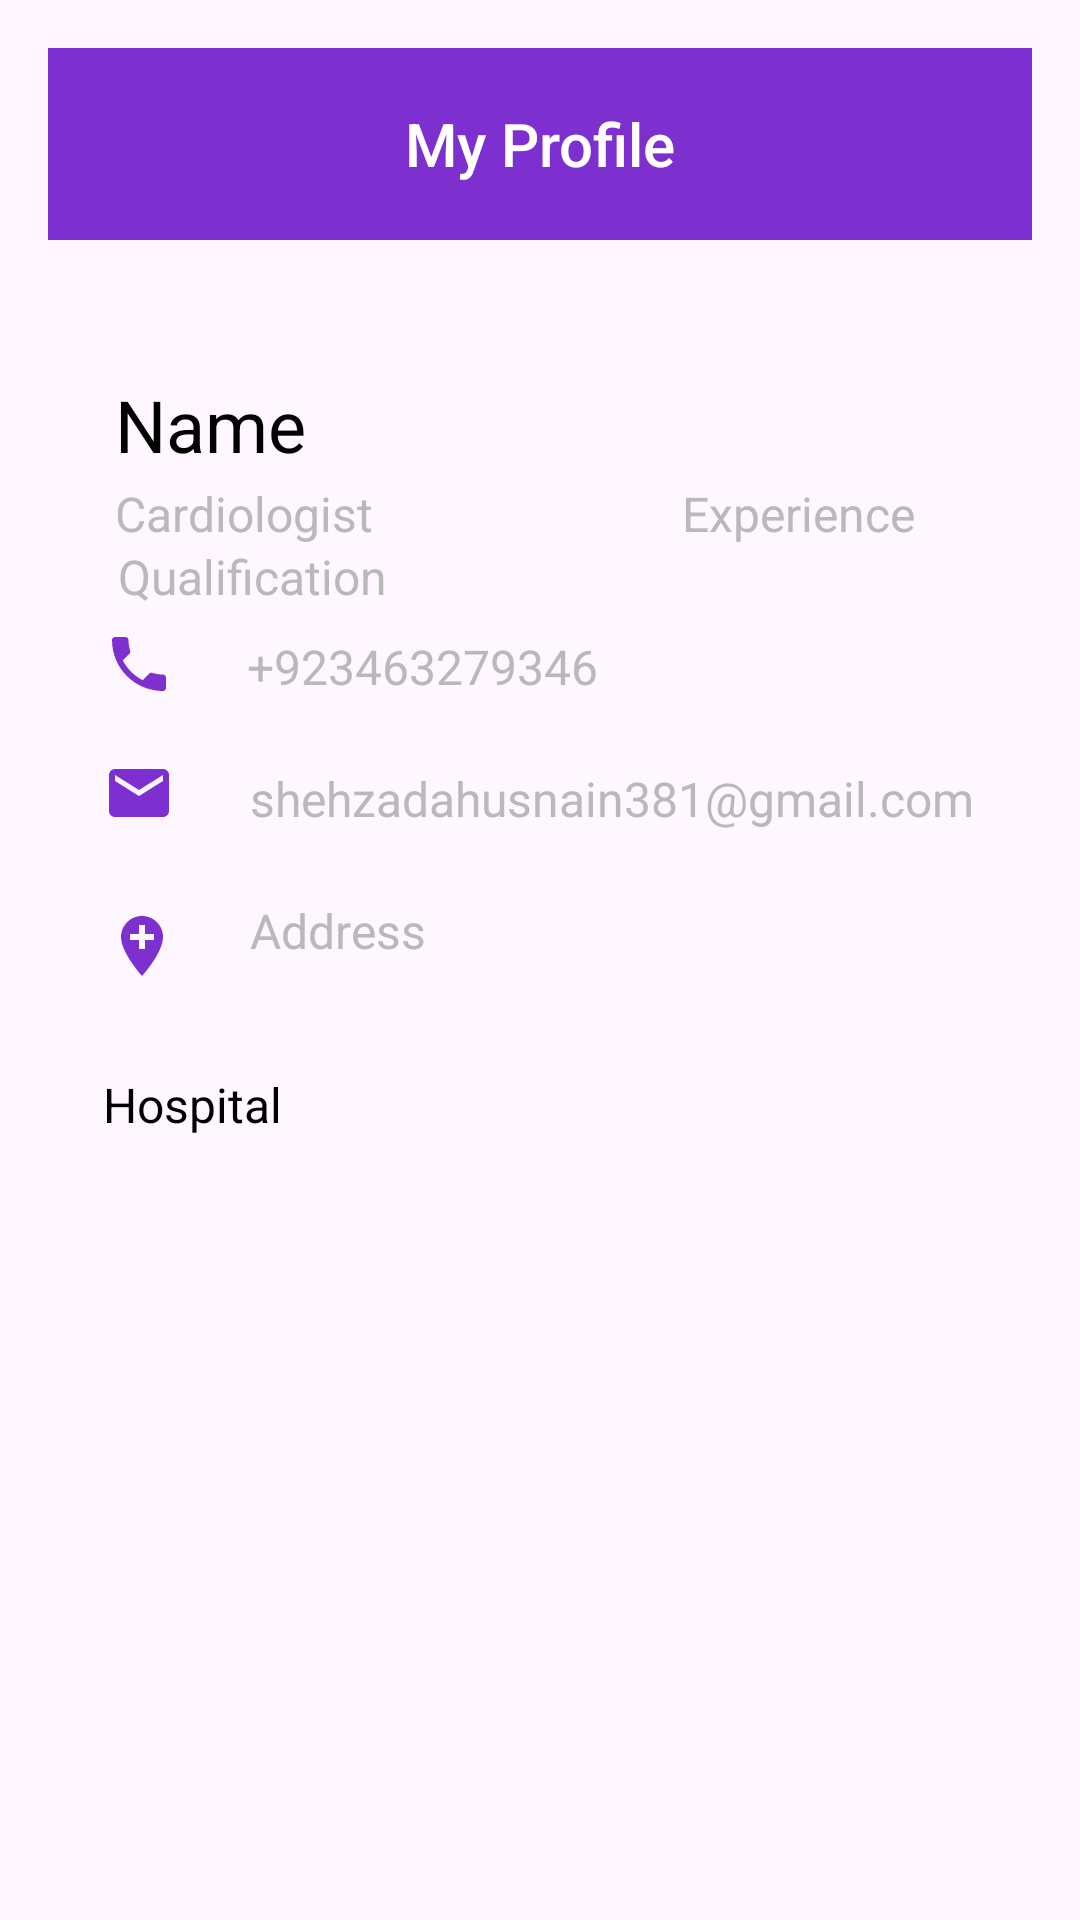

Icon bounding boxes for this 1080px x 1920px phone screenshot, format (x1, y1, x2, y2):
add location: (121, 916, 163, 976)
call: (112, 637, 166, 691)
email: (109, 769, 169, 817)
